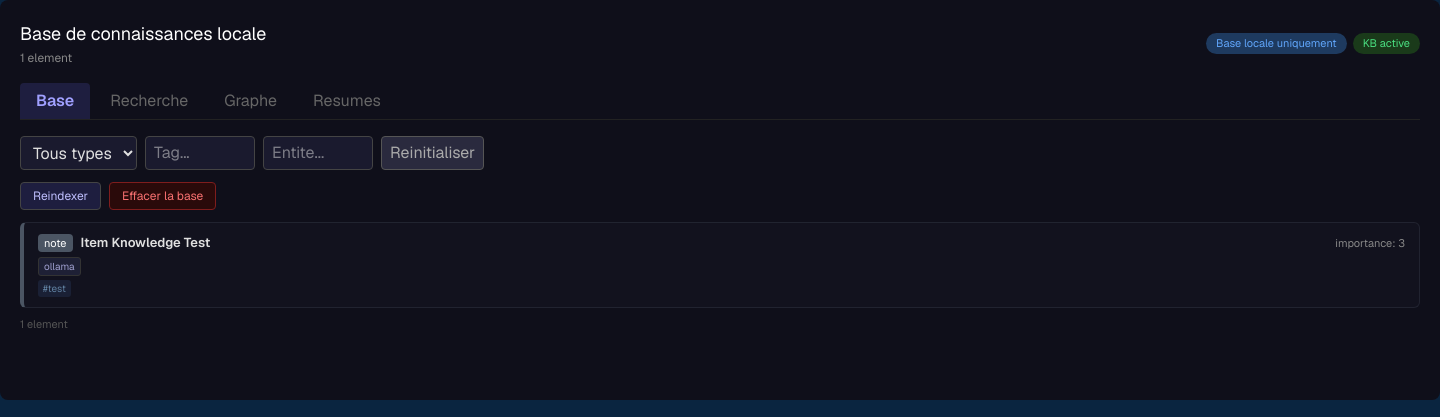
KnowledgeBasePanel › bascule vers onglet Resumes
This screenshot has width=1440, height=417.
What coordinates should you click on to do the following:
click the button "Resumes"
I would click on:
 (347, 101)
Its box is [297,83,397,119].
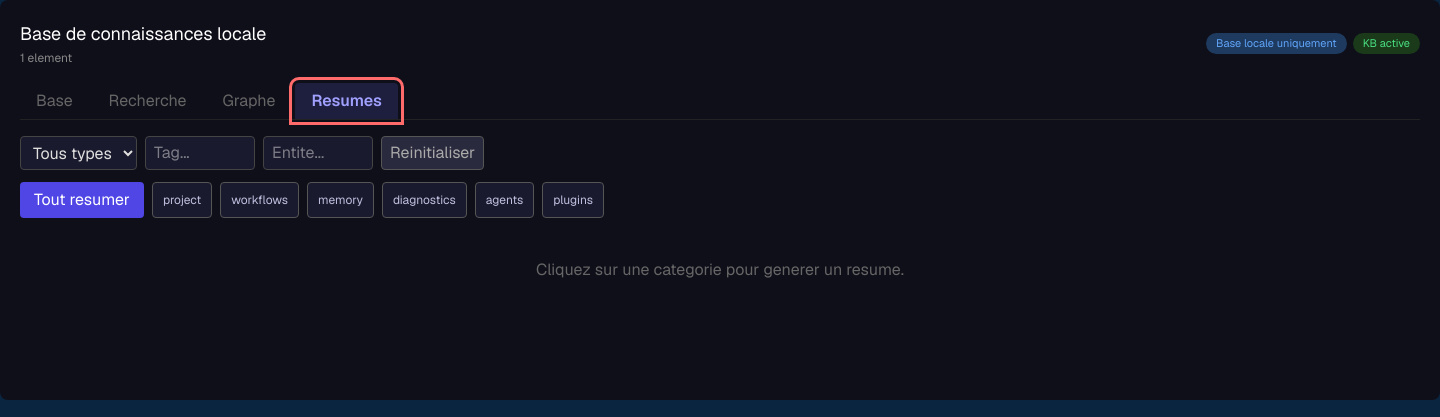
expect the button "Tout resumer" is shown: met, box [20,182,144,218]
